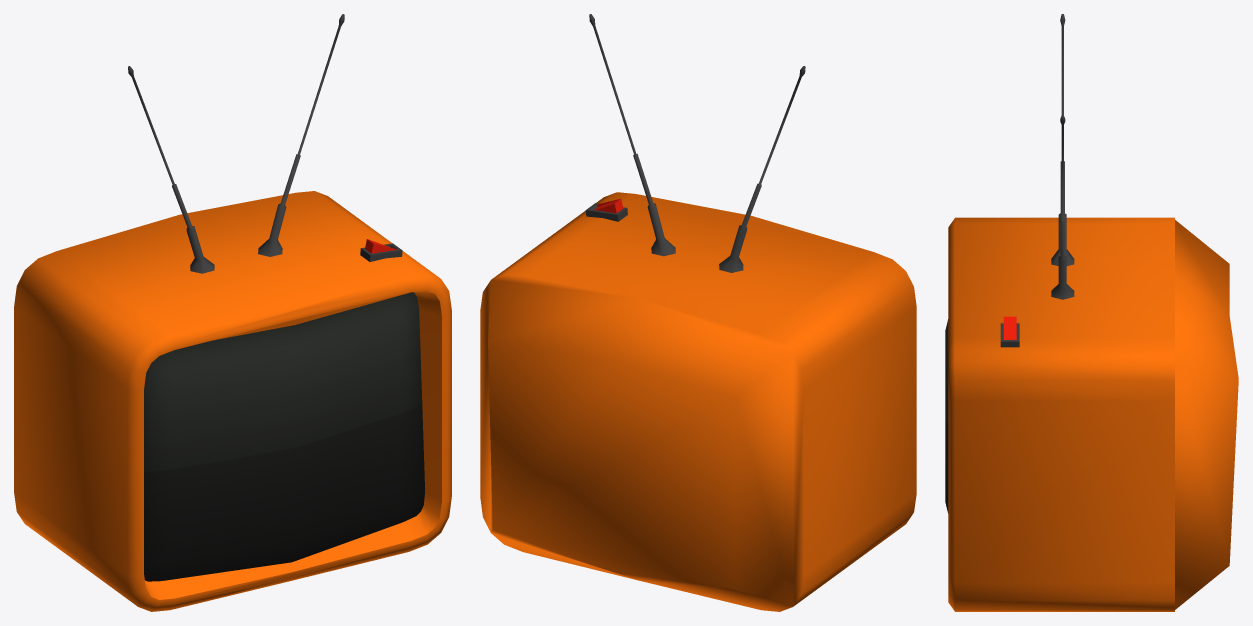
3 views of the same model, side by side, from view 1: azimuth 30°, elevation 25°; view 2: azimuth 150°, elevation 25°; view 3: azimuth 270°, elevation 25° (orthographic). The views are drawn at different scales.
Visible parts, largest first — view 1: Tv; view 2: Tv; view 3: Tv.
Part boxes in pixels (x1,y1,x2,y2): Tv: (14, 14, 451, 611); Tv: (480, 14, 916, 611); Tv: (945, 14, 1238, 611).
Bounding box in the file's own units: 125 × 184 × 101.
